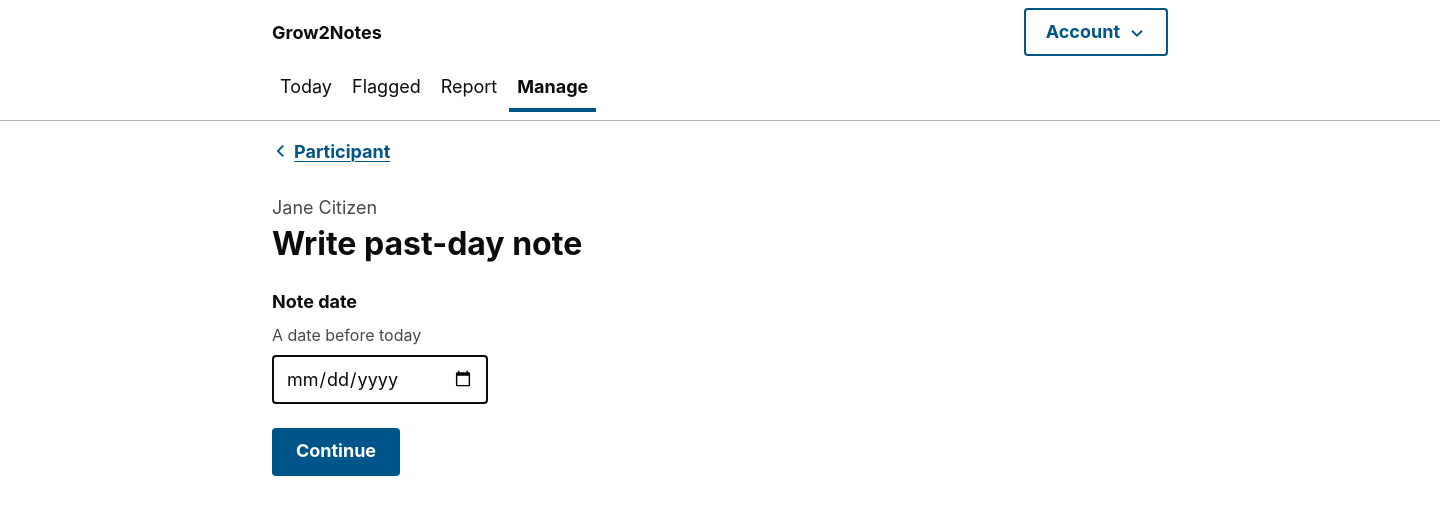
it: Write past-day note › says "Note date must be in the past" for today, above the field, which it focuses, and sends nothing
Type "2026-10-01" into the date field labelled "Note date" at [380, 379], box [272,354,488,404]
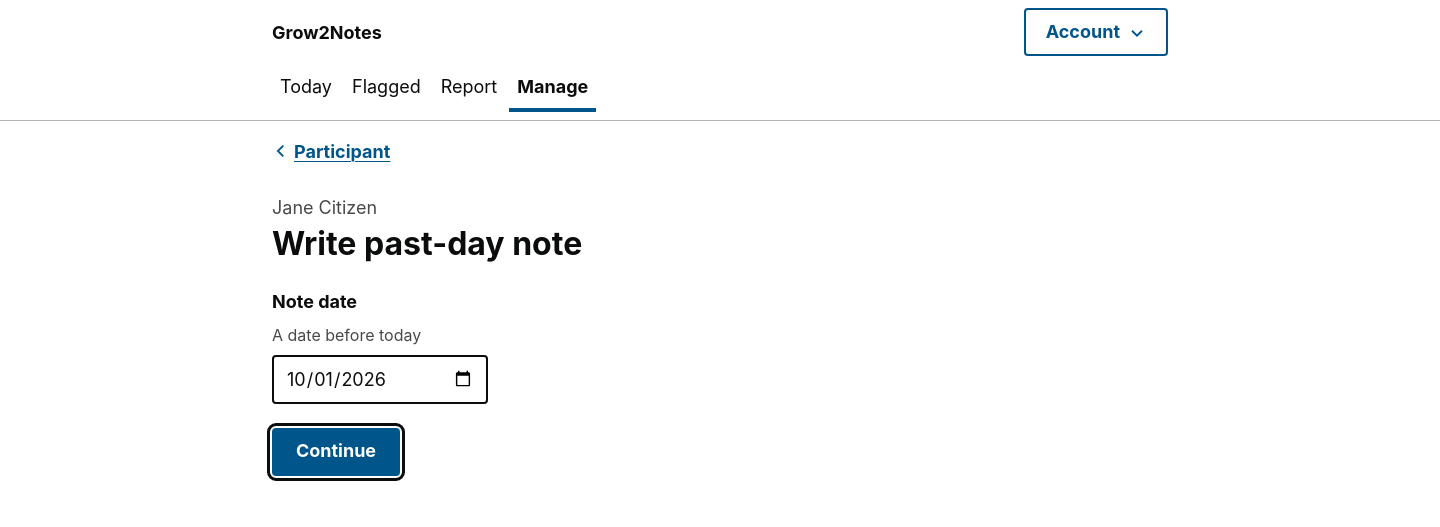
Click the button "Continue" at [336, 452], box [272,428,400,476]
Wait 1 ms
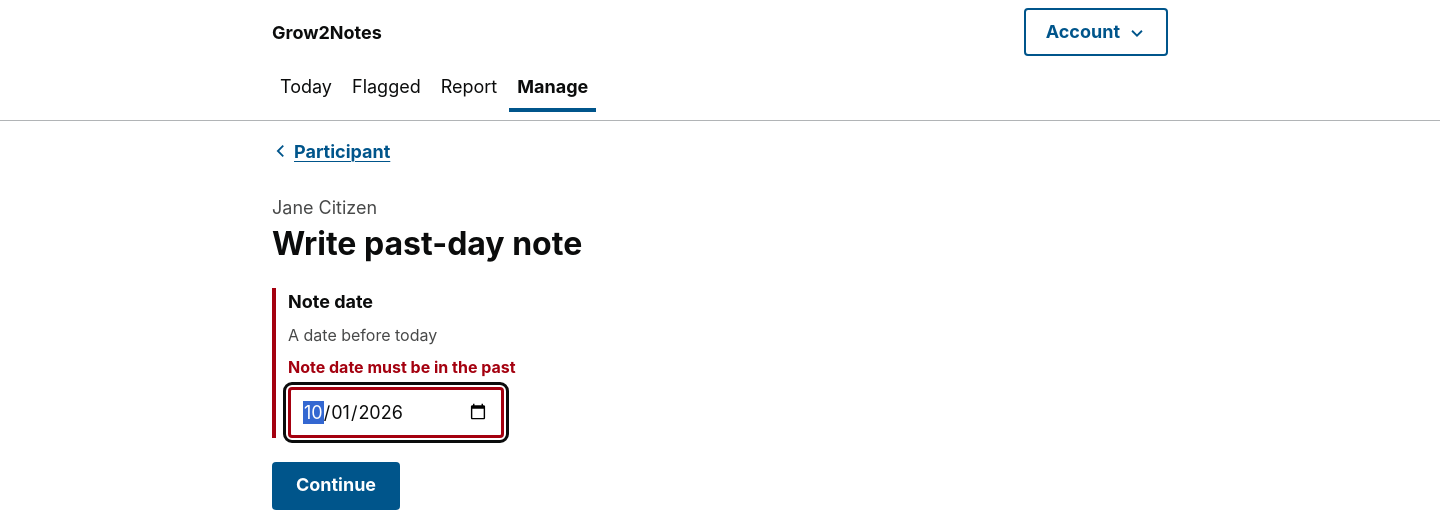
Expected: the element showing "Note date must be in the past" is shown, [287,356,516,376]
